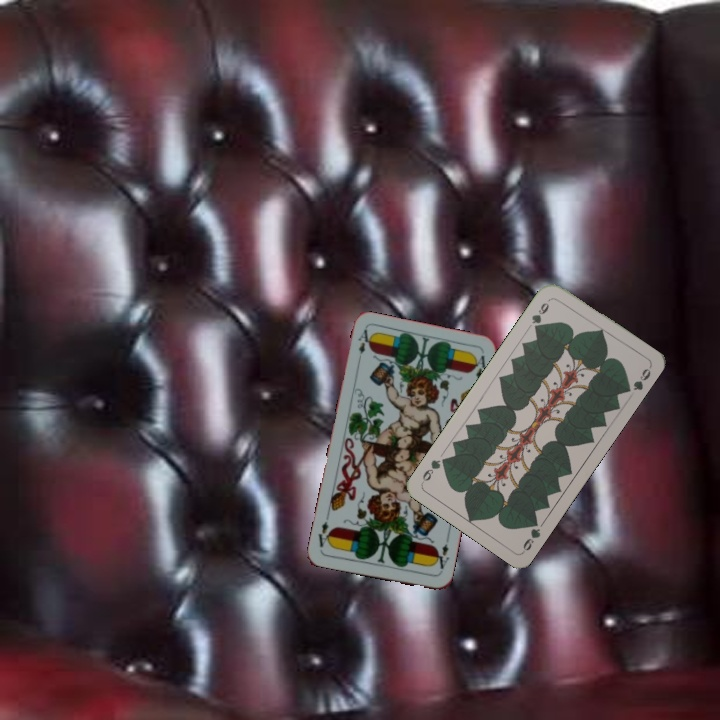EA: (354, 325, 374, 366), (430, 540, 452, 575)
G9: (525, 295, 553, 333), (519, 515, 543, 555)
